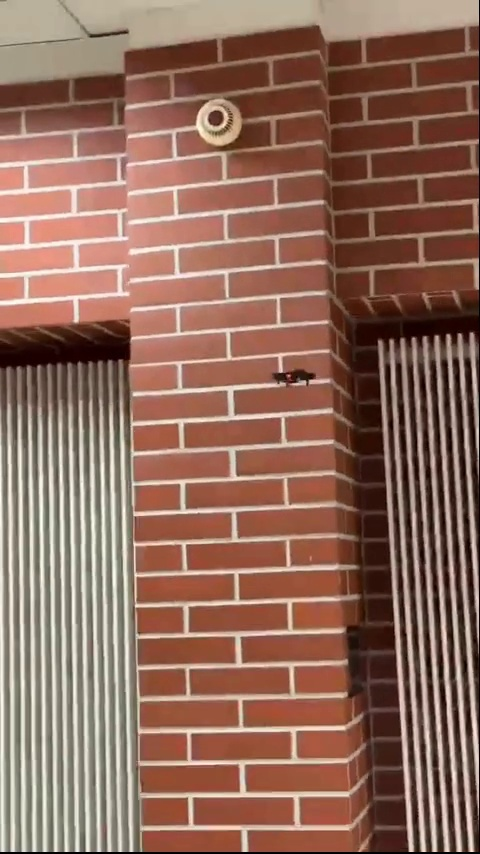drone: (272, 362, 319, 388)
